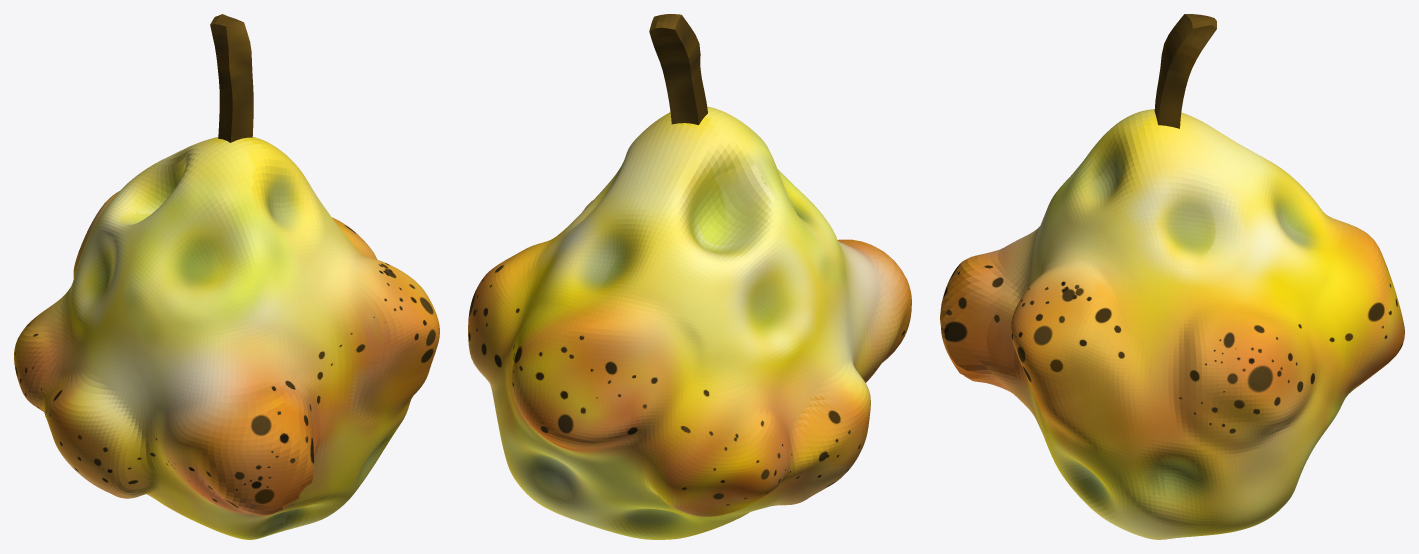
The model's file is fruit.fbx.
The picture shows the model from 3 angles, left to right: view 1: azimuth 30°, elevation 25°; view 2: azimuth 150°, elevation 25°; view 3: azimuth 270°, elevation 25°; orthographic projection. The views are drawn at different scales.
Parts seen in each view (by area): view 1: Quad Sphere; view 2: Quad Sphere; view 3: Quad Sphere.
Part boxes in pixels (left/top/right/bottom): Quad Sphere: left=14, top=14, right=439, bottom=539; Quad Sphere: left=468, top=14, right=911, bottom=539; Quad Sphere: left=940, top=14, right=1404, bottom=539.
Size of the model in its own units: 353 by 499 by 420.
1 material, 1 textured.
